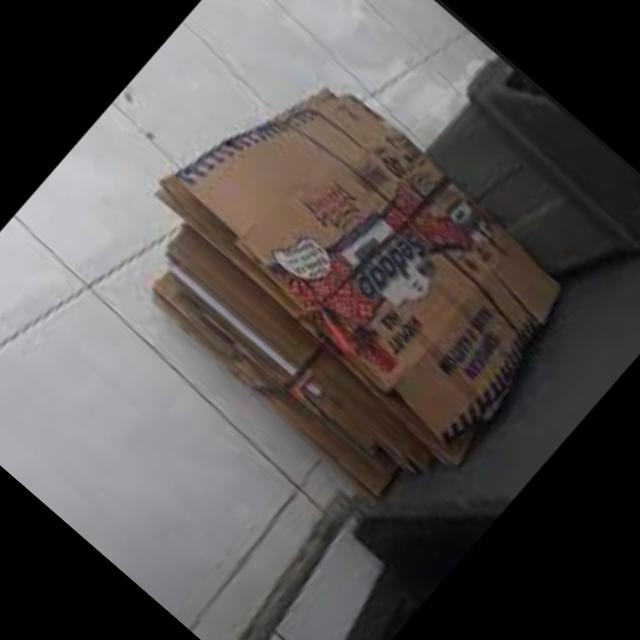Kardus: (95, 31, 598, 523)
